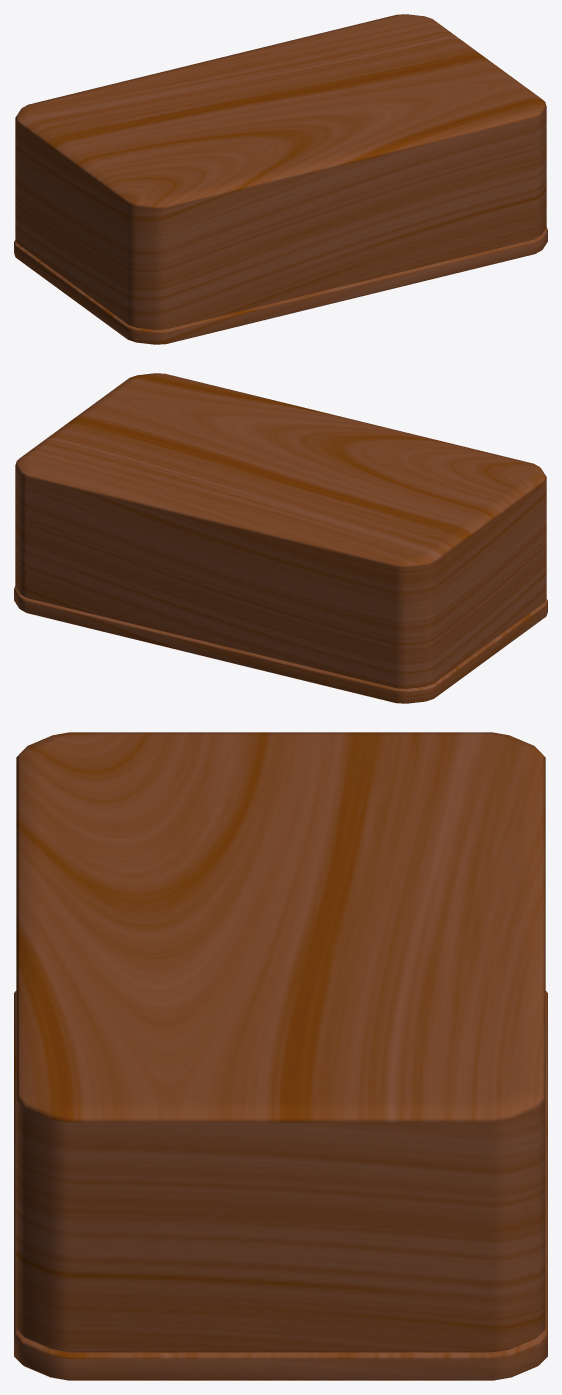
The model's file is Chess_Piece_Box_01.glb.
3 views of the same model, one above another, from view 1: azimuth 30°, elevation 25°; view 2: azimuth 150°, elevation 25°; view 3: azimuth 270°, elevation 25° (orthographic). The views are drawn at different scales.
Visible parts, largest first — view 1: Chess_Piece_Box_Cap_01, Chess_Piece_Box_01; view 2: Chess_Piece_Box_Cap_01, Chess_Piece_Box_01; view 3: Chess_Piece_Box_Cap_01, Chess_Piece_Box_01.
Part boxes in pixels (x1=…): Chess_Piece_Box_Cap_01: x1=15, y1=14, x2=546, y2=329; Chess_Piece_Box_01: x1=14, y1=227, x2=547, y2=344; Chess_Piece_Box_Cap_01: x1=15, y1=373, x2=546, y2=688; Chess_Piece_Box_01: x1=14, y1=586, x2=547, y2=703; Chess_Piece_Box_Cap_01: x1=16, y1=732, x2=545, y2=1352; Chess_Piece_Box_01: x1=14, y1=991, x2=547, y2=1380.
Size of the model in its own units: 0.4781 by 0.1541 by 0.2773.
1 material, 1 textured.
